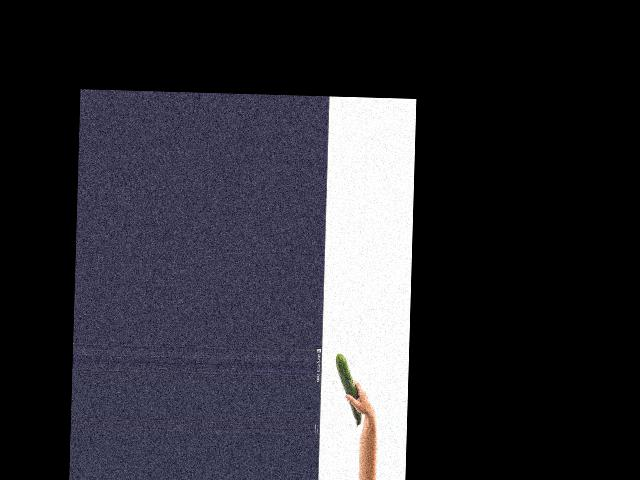cucumber: (333, 353, 363, 427)
